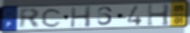4: (126, 5, 144, 27)
6: (97, 6, 114, 26)
C: (40, 7, 63, 28)
H: (146, 3, 172, 27), (69, 5, 93, 29)
R: (19, 8, 41, 30)
